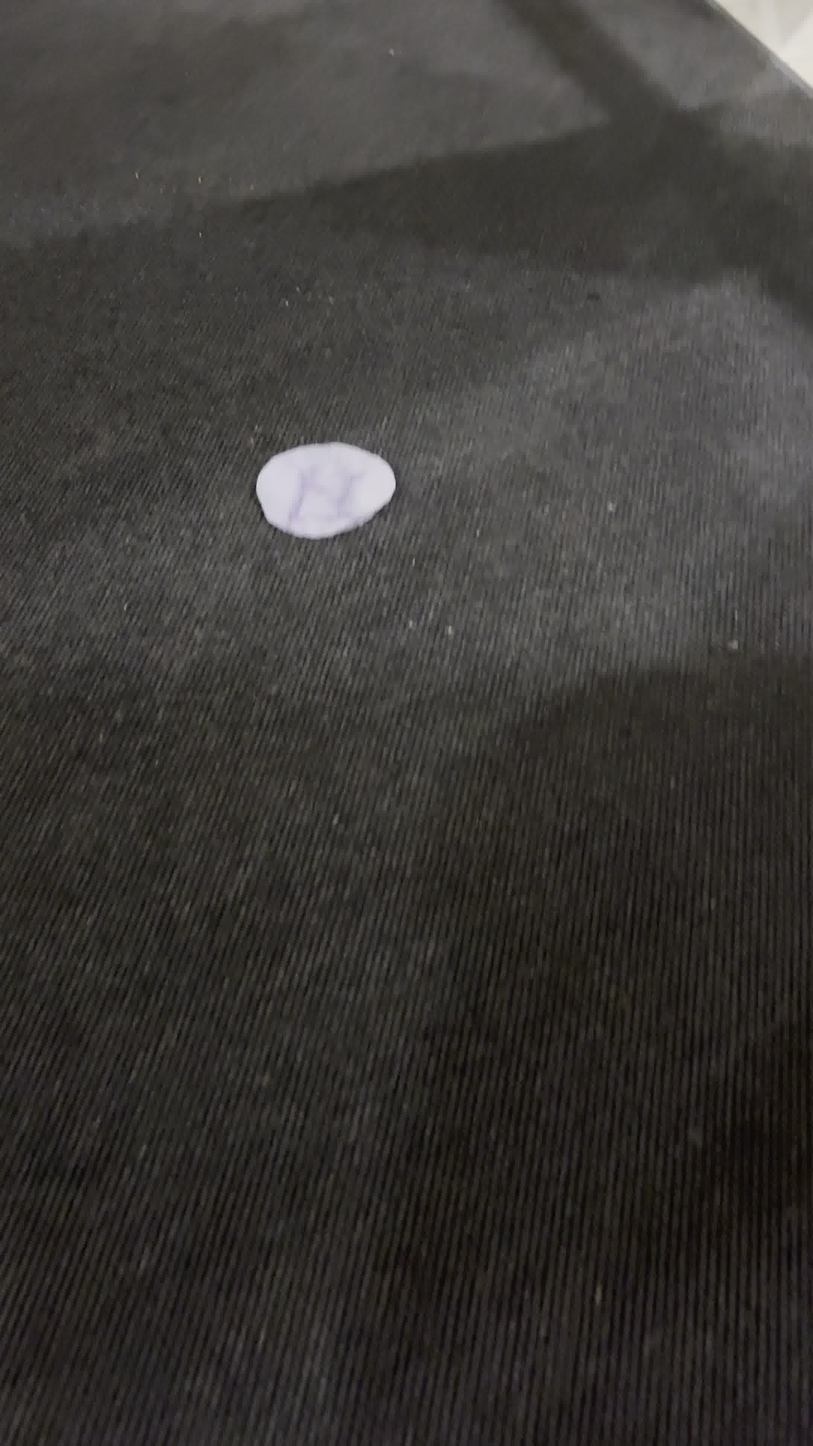Target: (256, 441, 395, 539)
